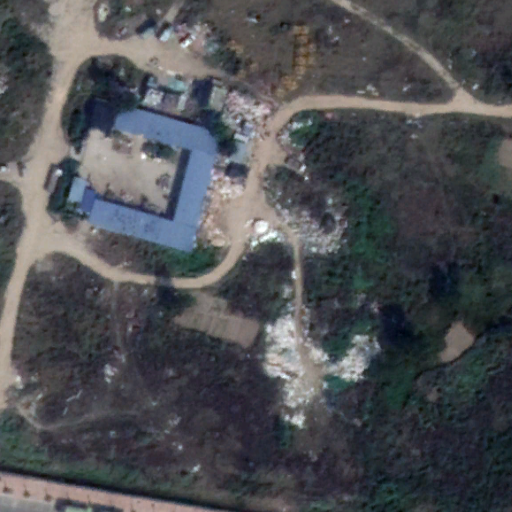msw: (262, 312, 383, 425), (248, 202, 348, 259), (198, 168, 247, 252), (219, 88, 268, 133)
